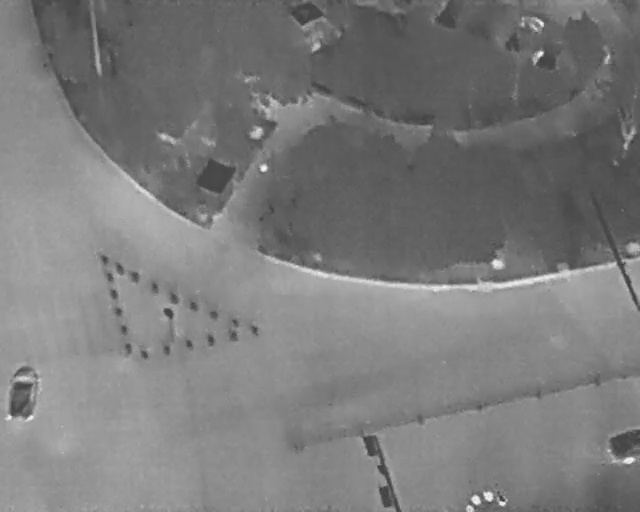Car: (5, 362, 42, 424), (606, 425, 639, 465), (515, 9, 549, 38)
Person: (527, 46, 547, 69), (601, 45, 612, 68)
